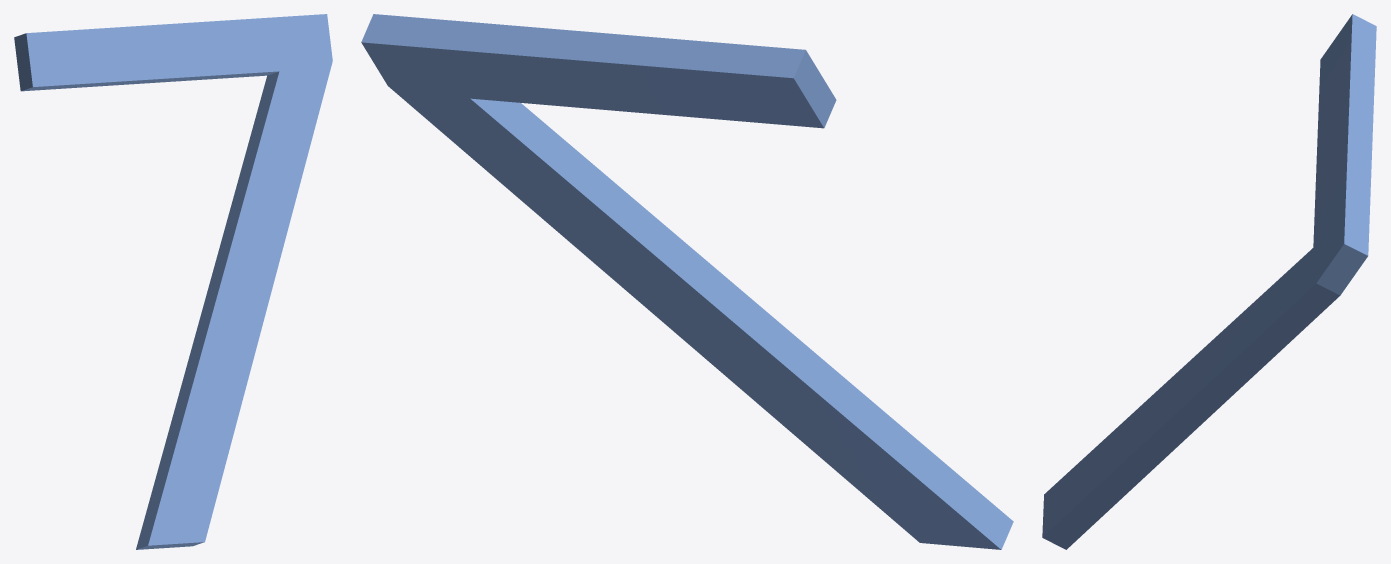
Rendered from New_Number_7.gltf.
3 views of the same model, side by side, from view 1: azimuth 30°, elevation 25°; view 2: azimuth 150°, elevation 25°; view 3: azimuth 270°, elevation 25° (orthographic). The views are drawn at different scales.
Parts seen in each view (by area): view 1: Part 79; view 2: Part 79; view 3: Part 79.
Boxes of the visible parts, x1,y1,x2,y2 form: Part 79: [14, 14, 332, 549]; Part 79: [361, 14, 1013, 549]; Part 79: [1042, 14, 1376, 549].
Bounding box in the file's own units: 0.00376 × 0.00505 × 0.003.
